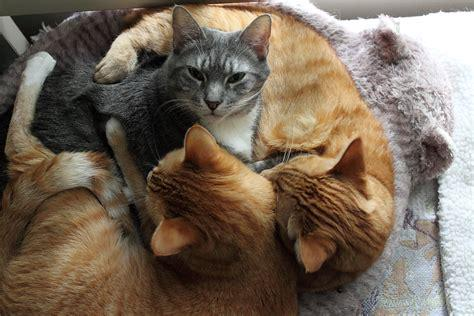cat: (93, 8, 393, 286), (1, 124, 295, 316), (27, 6, 270, 154)
